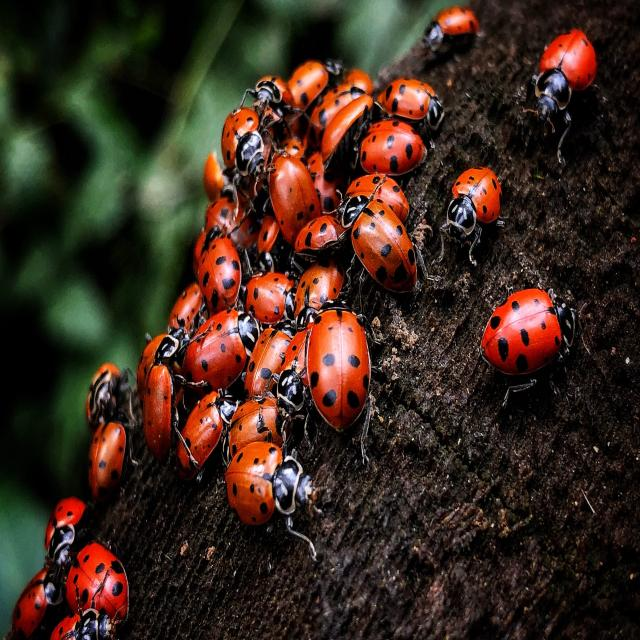ladybug: (481, 287, 577, 407), (305, 300, 371, 463), (225, 441, 316, 559), (337, 182, 431, 293), (530, 30, 597, 161), (180, 309, 261, 390), (437, 168, 504, 265), (173, 391, 237, 480), (66, 542, 128, 625), (50, 568, 116, 640), (269, 154, 321, 245), (143, 335, 180, 462), (88, 411, 136, 503), (10, 559, 64, 640), (223, 396, 283, 464), (321, 95, 374, 171), (310, 81, 369, 147), (198, 229, 241, 315), (360, 119, 426, 175), (245, 325, 294, 399), (377, 78, 444, 131), (204, 188, 261, 250), (294, 260, 344, 330), (45, 497, 86, 576), (221, 107, 265, 176), (346, 174, 409, 221), (86, 363, 130, 429), (245, 272, 296, 326), (423, 6, 479, 52), (277, 329, 308, 412), (167, 283, 210, 340), (307, 151, 346, 212), (240, 76, 291, 119), (287, 60, 329, 110), (294, 215, 345, 254), (137, 333, 167, 399), (258, 215, 279, 252)
